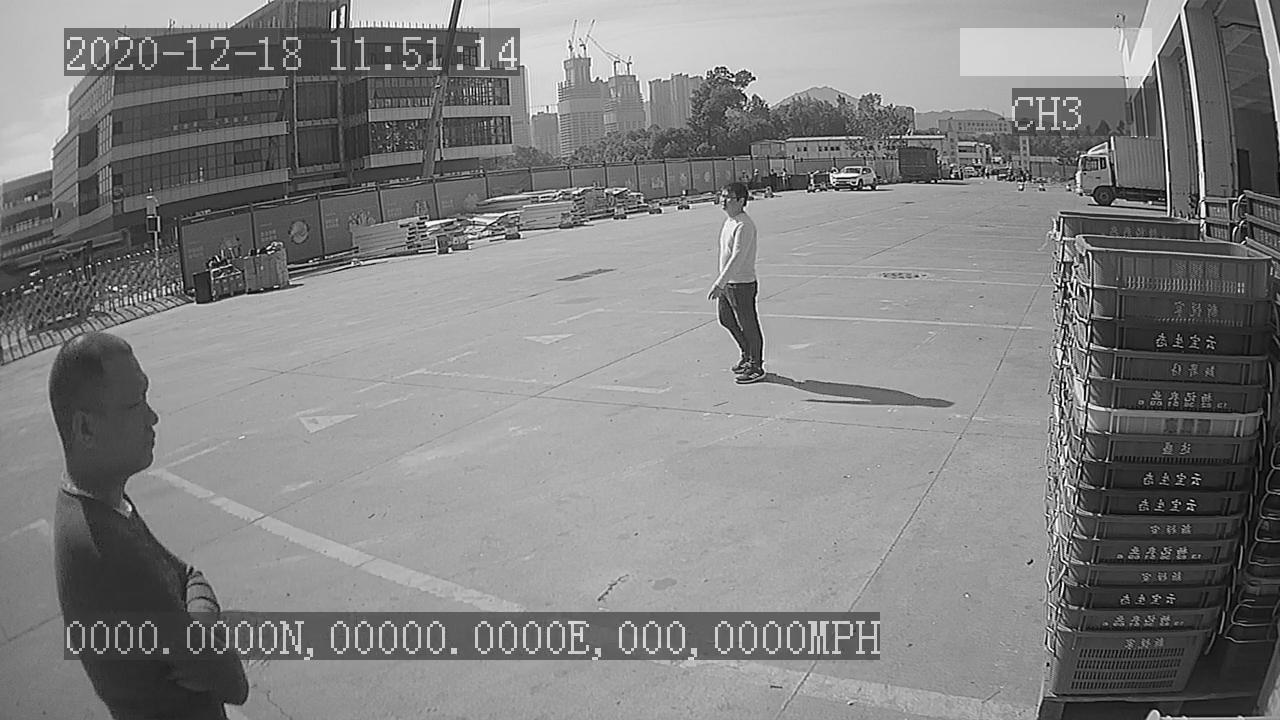person: (699, 177, 772, 386)
